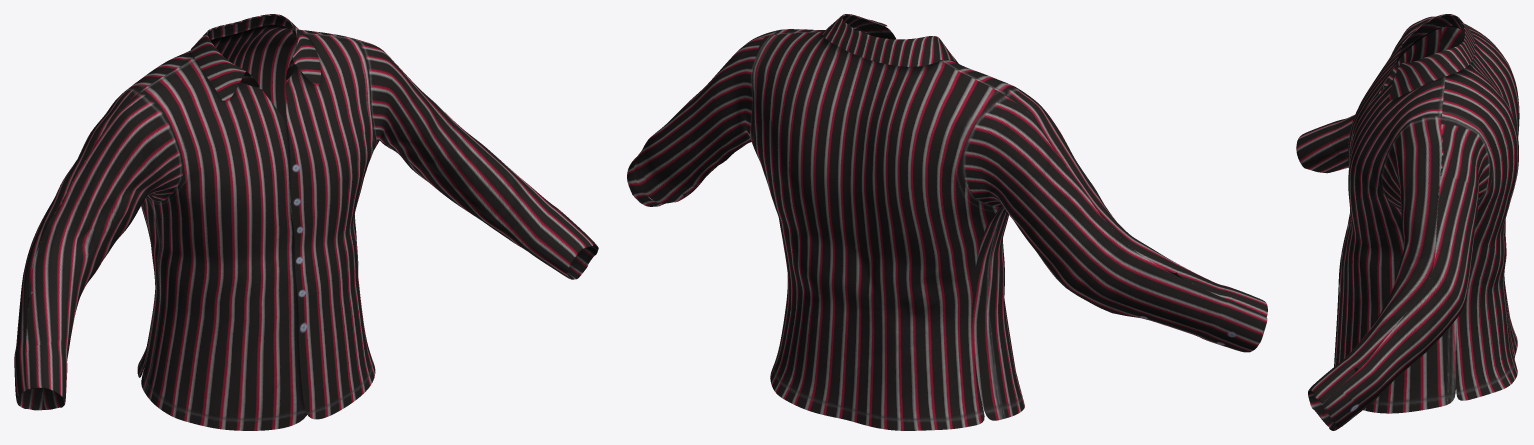
The model's file is LXL_XLM.dae.
3 views of the same model, side by side, from view 1: azimuth 30°, elevation 25°; view 2: azimuth 150°, elevation 25°; view 3: azimuth 270°, elevation 25° (orthographic). The views are drawn at different scales.
Parts seen in each view (by area): view 1: longshirt; view 2: longshirt; view 3: longshirt.
Boxes of the visible parts, x1,y1,x2,y2 form: longshirt: (14,14,598,430); longshirt: (627,14,1267,430); longshirt: (1296,14,1519,430).
Size of the model in its own units: 10.73 by 6.31 by 3.66.
